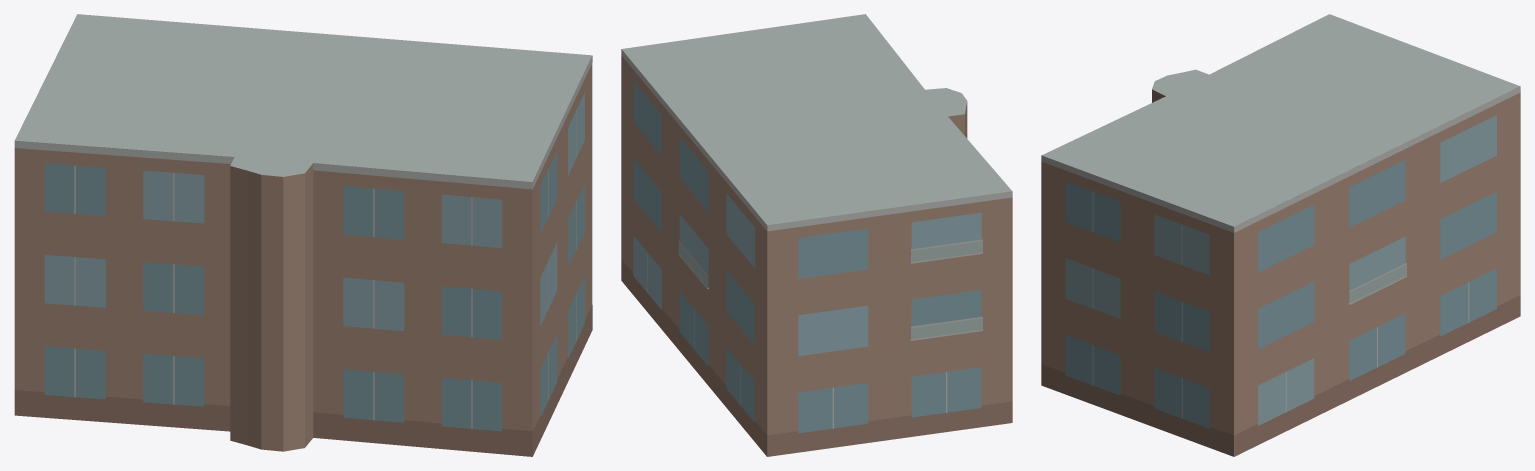
Rendered from survey-upis-32885607.glb.
3 views of the same model, side by side, from view 1: azimuth 30°, elevation 25°; view 2: azimuth 150°, elevation 25°; view 3: azimuth 270°, elevation 25° (orthographic). The views are drawn at different scales.
Visible parts, largest first — view 1: survey-upis-32885607.tmp; view 2: survey-upis-32885607.tmp; view 3: survey-upis-32885607.tmp.
Part boxes in pixels (<box>): survey-upis-32885607.tmp: <box>14,14,592,456</box>; survey-upis-32885607.tmp: <box>621,14,1012,456</box>; survey-upis-32885607.tmp: <box>1041,14,1520,456</box>.
Bounding box in the file's own units: 18.16 × 9.15 × 17.28.
